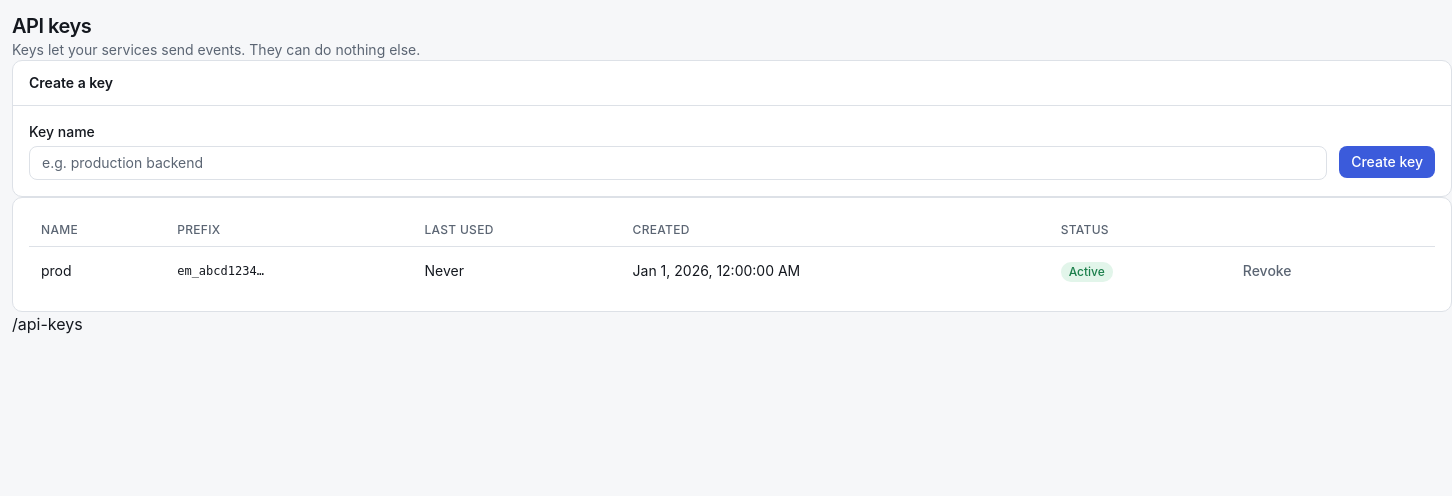
Test: API keys › shows a new key once and asks for confirmation before revoking
Later steps or results of the test are not shown.
In the field labelled "Key name": (678, 163) top-left (29, 146), bottom-right (1327, 180), type "prod"
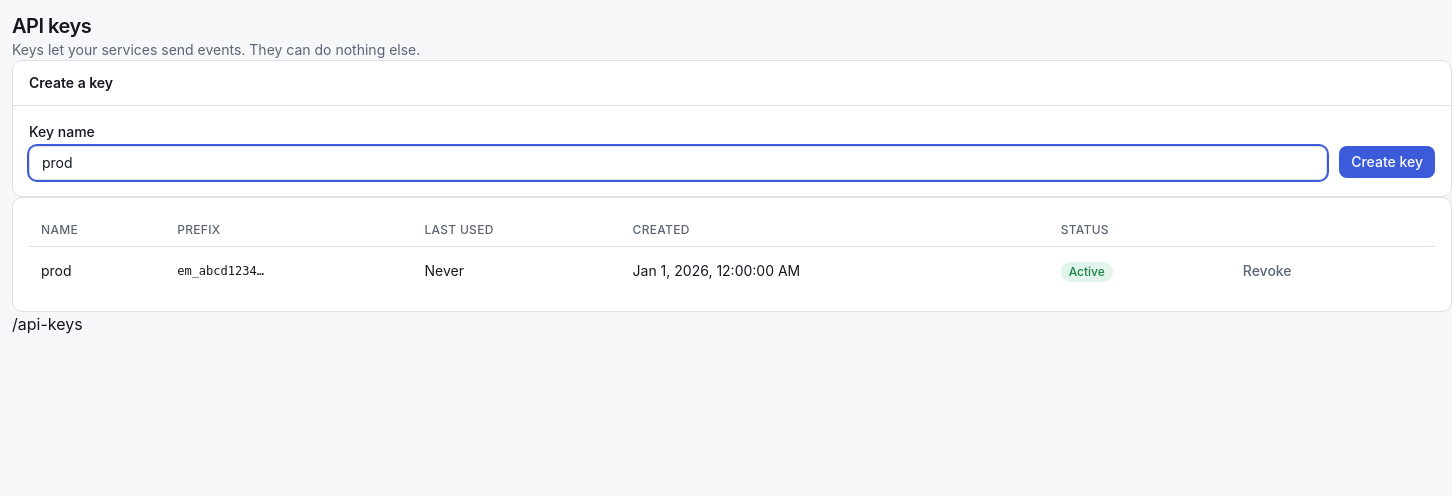
Click the button "Create key": (1387, 162) top-left (1339, 146), bottom-right (1435, 178)
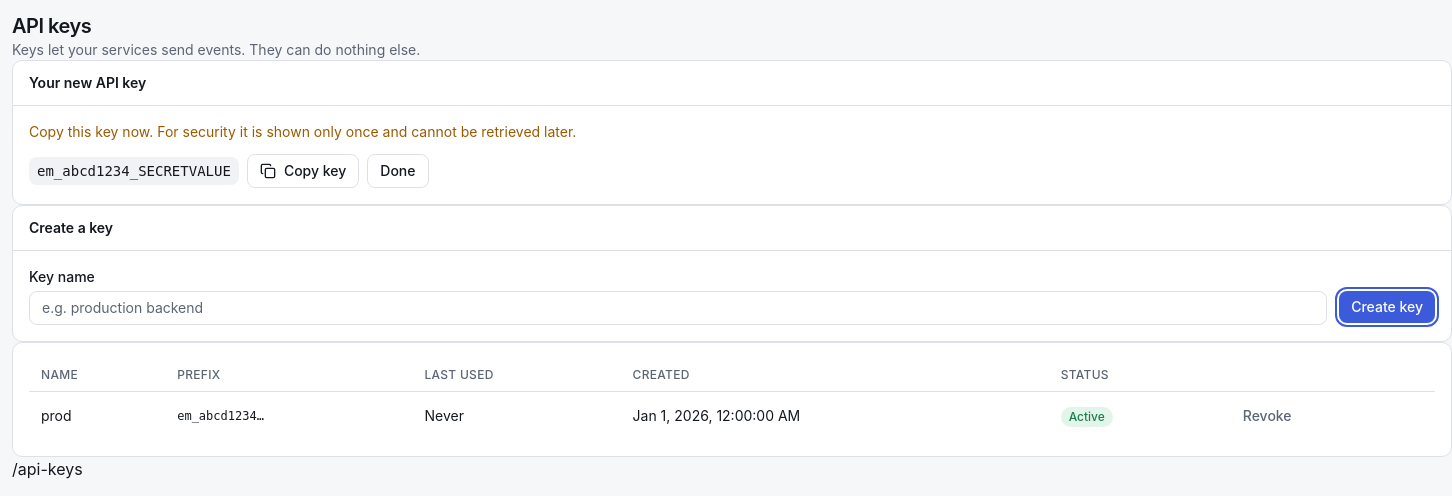
Now the text with test id "api-key" reads "em_abcd1234_SECRETVALUE", box top-left (37, 163), bottom-right (231, 179)
Now the text "shown only once" is shown, box top-left (29, 123), bottom-right (576, 140)
Click the button "Done": (398, 171) top-left (367, 154), bottom-right (428, 188)
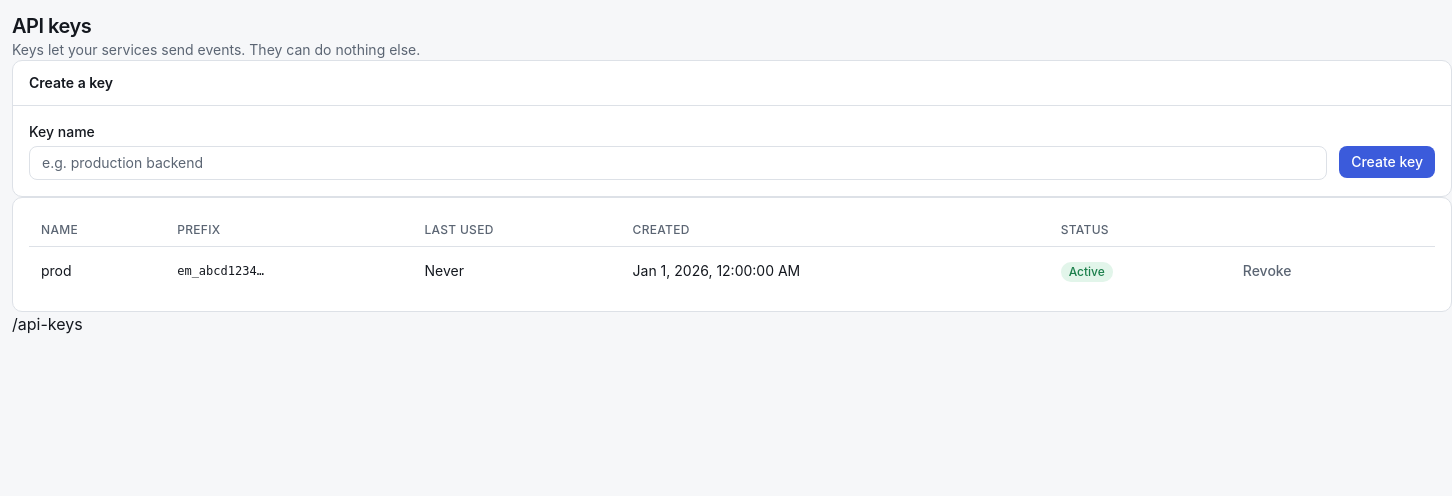
Now the text with test id "api-key" is gone
Now the text "em_abcd1234_SECRETVALUE" is gone
